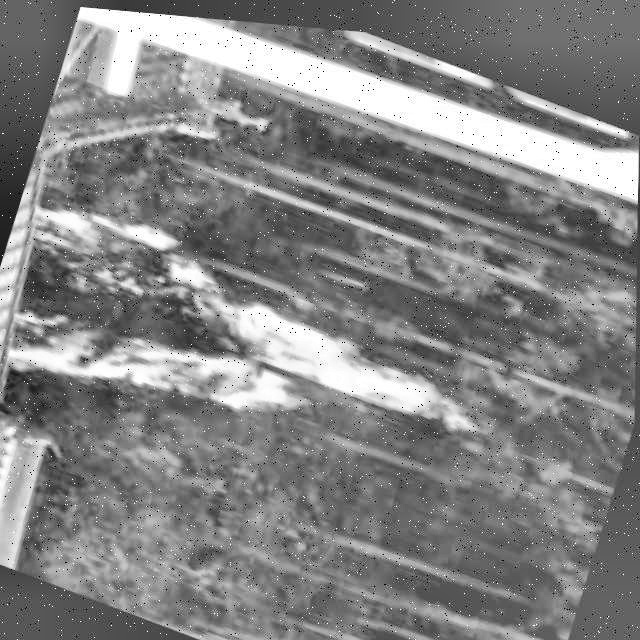Fire: (1, 188, 471, 516)
